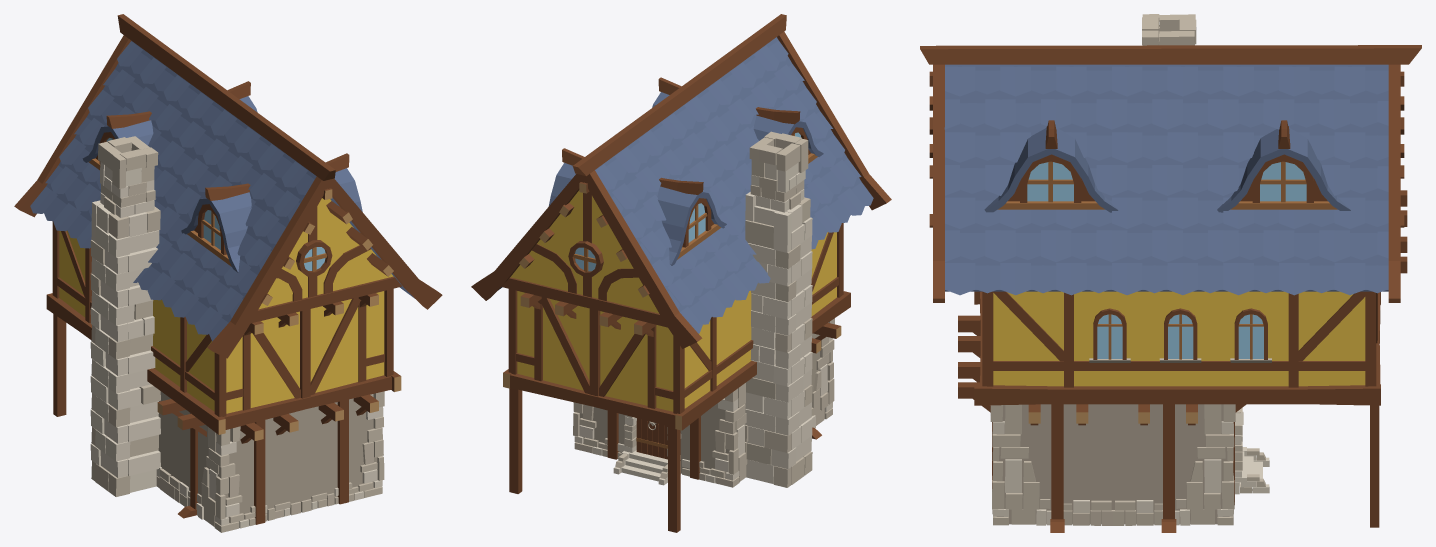
File: cottage-b-yellow.glb
The picture shows the model from 3 angles, left to right: view 1: azimuth 30°, elevation 25°; view 2: azimuth 150°, elevation 25°; view 3: azimuth 270°, elevation 25°; orthographic projection. The views are drawn at different scales.
Visible parts, largest first — view 1: House_2; view 2: House_2; view 3: House_2.
Boxes of the visible parts, left/top/right/bottom form: House_2: left=14, top=14, right=442, bottom=532; House_2: left=471, top=14, right=891, bottom=532; House_2: left=920, top=14, right=1421, bottom=532.
Size of the model in its own units: 2.22 by 3.25 by 3.42.
